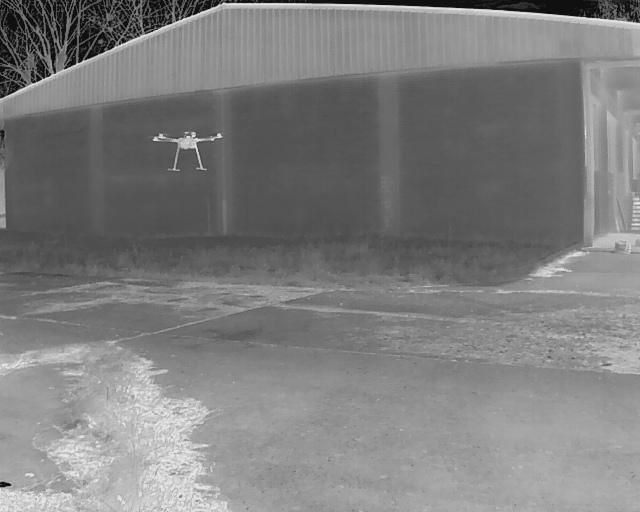drone: (151, 125, 233, 178)
